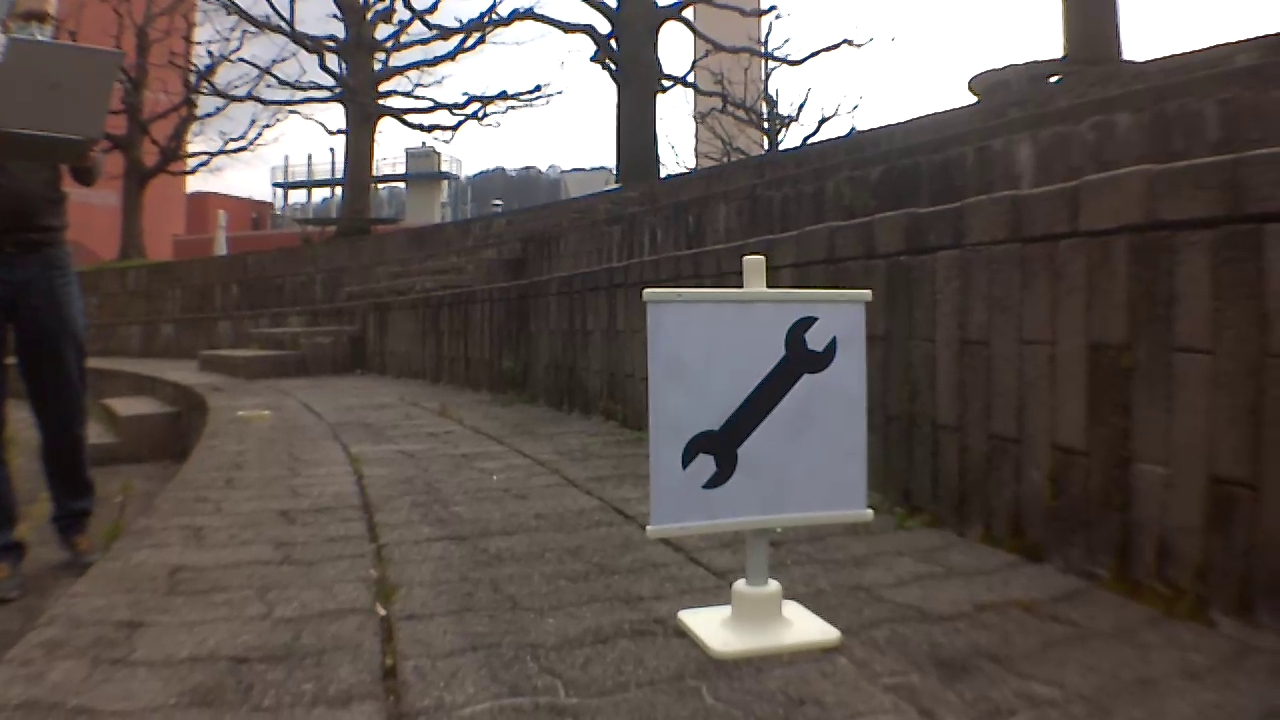wrench: (679, 314, 845, 494)
